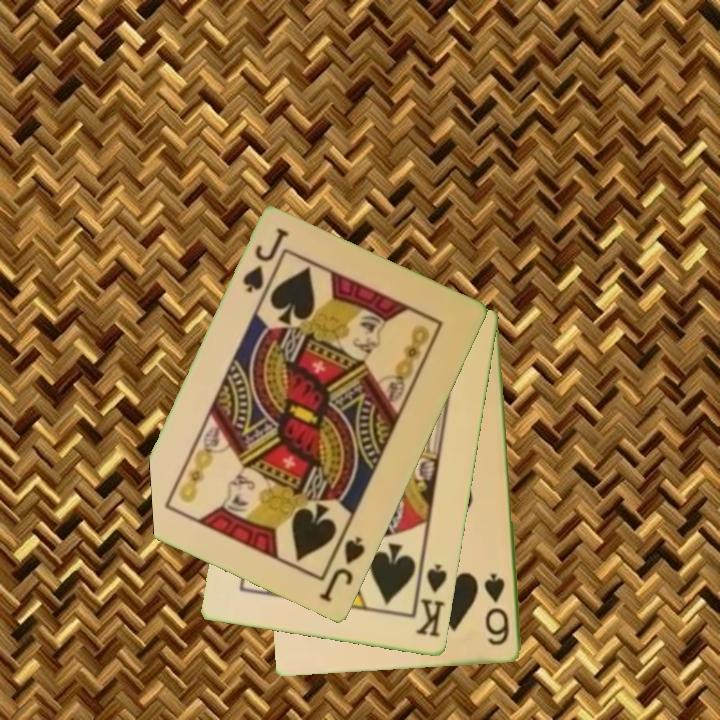6s: (481, 570, 512, 649)
Js: (315, 533, 369, 606), (239, 224, 292, 297)
Ks: (411, 559, 451, 641)
